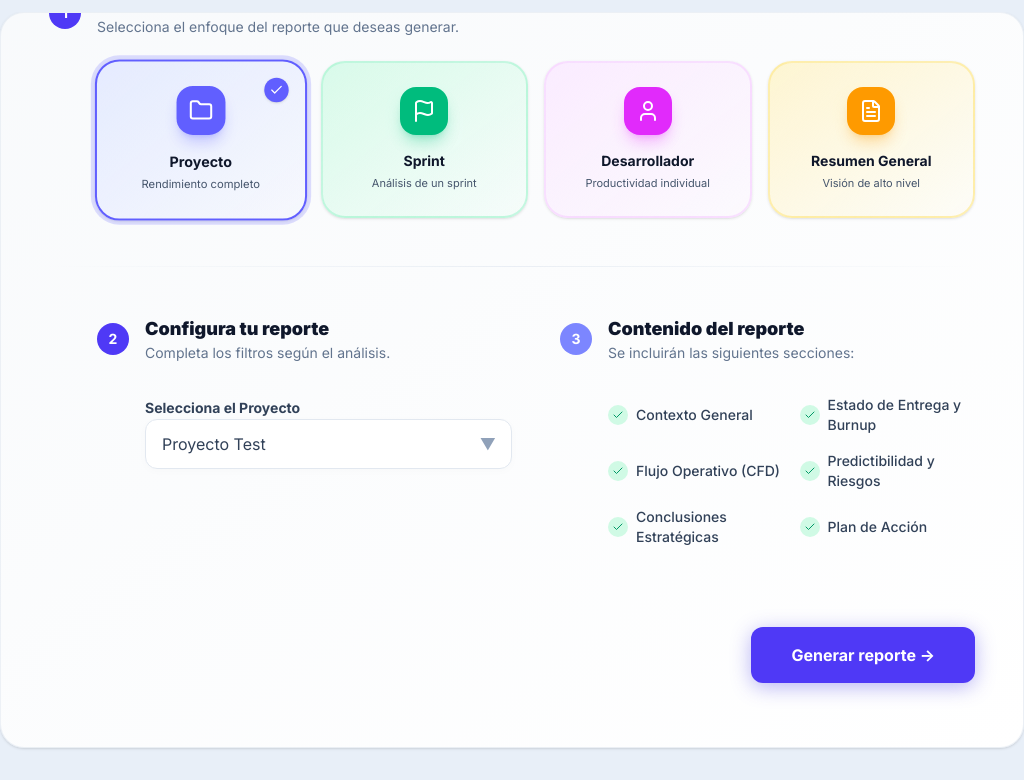
Test: CentroReportesView › shows validation error when records are below minimum required
The width and height of the screenshot is (1024, 780).
(page scrolled)
Click the button "Generar reporte →": point(863, 655) 751,627 -> 975,683
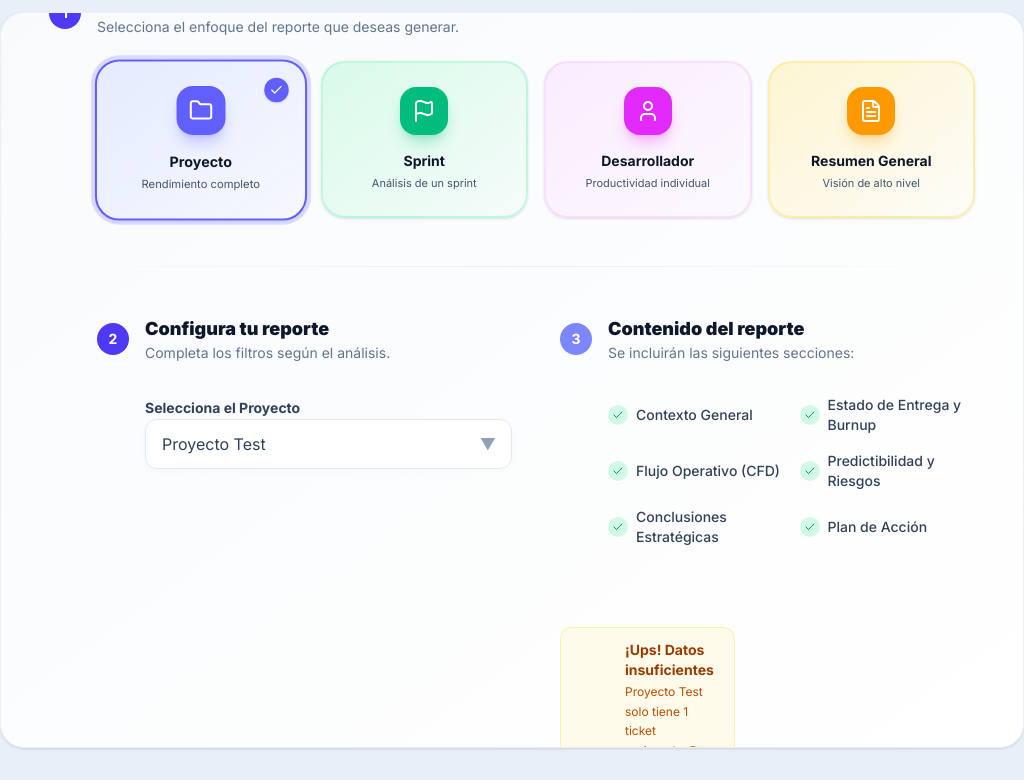
Expected: the heading "¡Ups! Datos insuficientes" is shown, 625,640 -> 718,680
